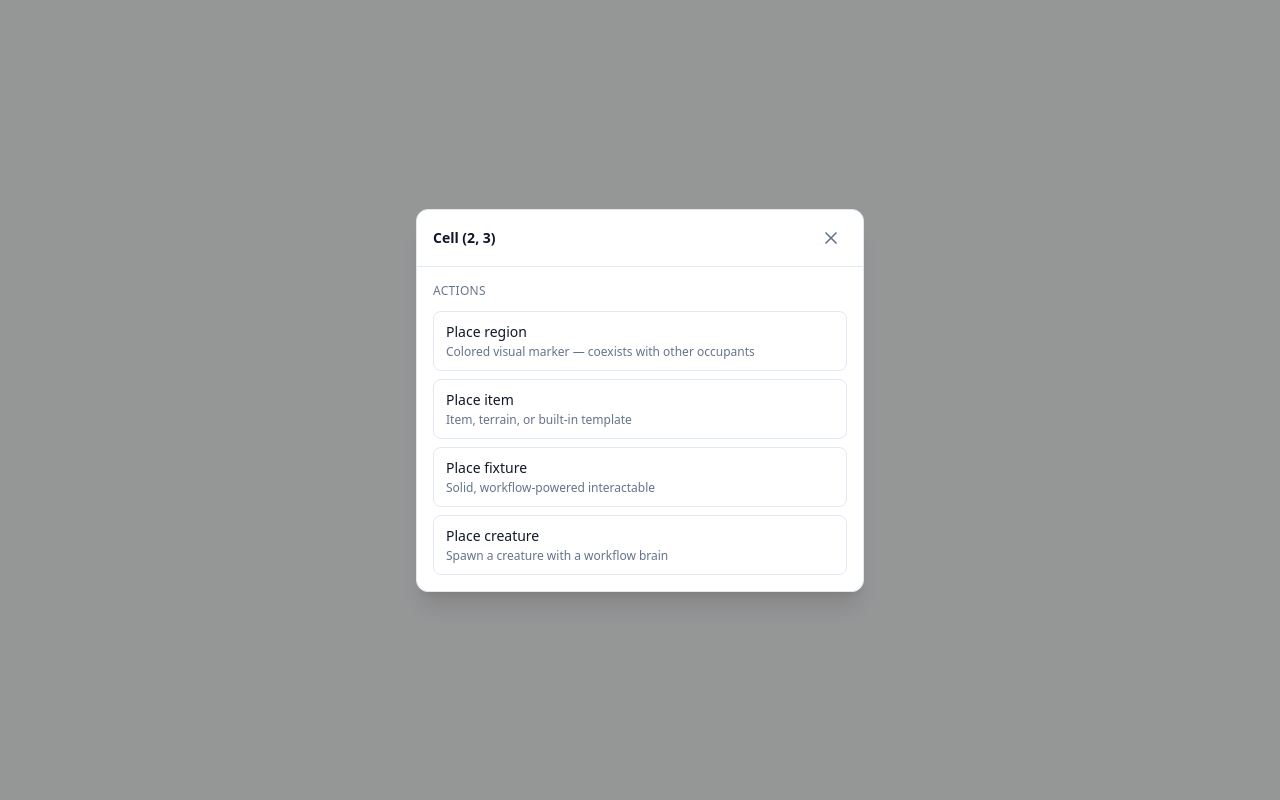
Test: SandboxCellActionModal › place item source menu › lists only user terrain definitions and excludes seeded built-ins
This screenshot has width=1280, height=800.
Click the button "Place item Item, terrain, or built-in template" at (480, 399), box left=433, top=378, right=847, bottom=438
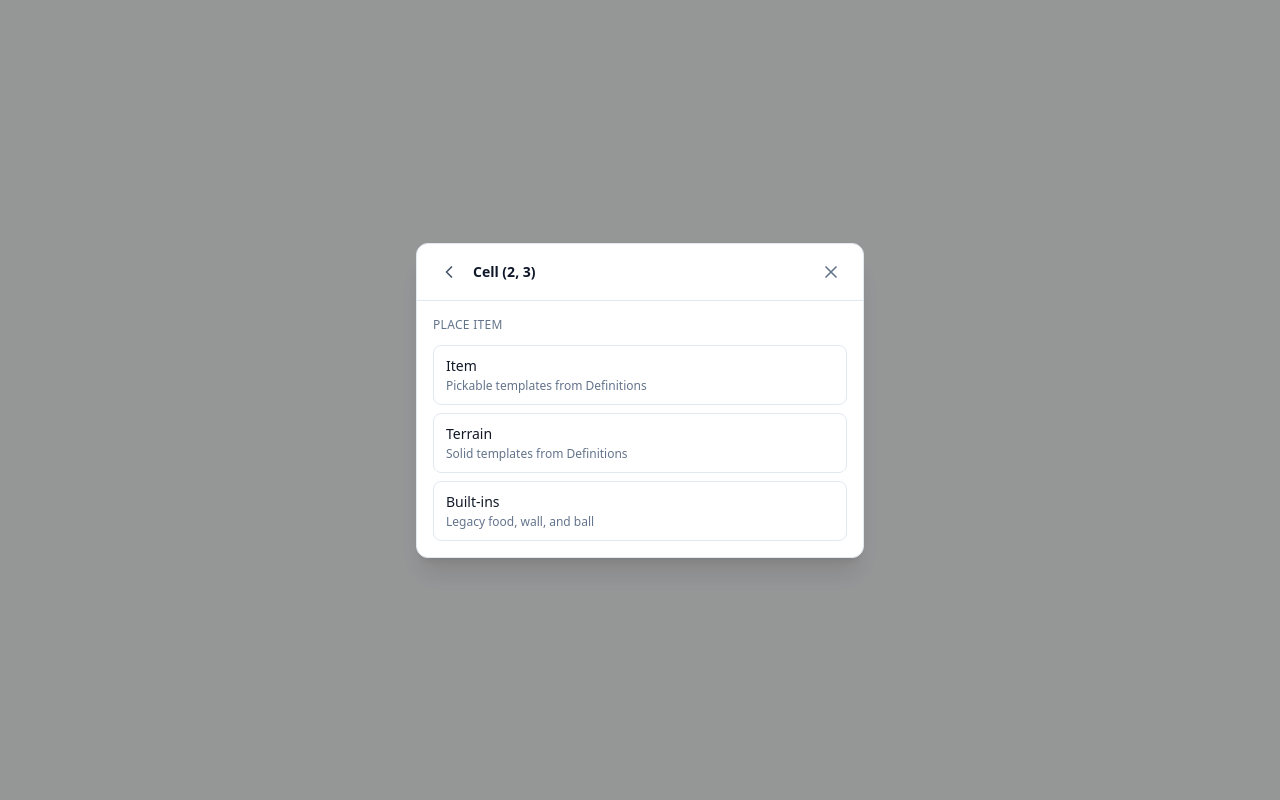
Click the button "Terrain Solid templates from Definitions" at (469, 433), box left=433, top=412, right=847, bottom=472
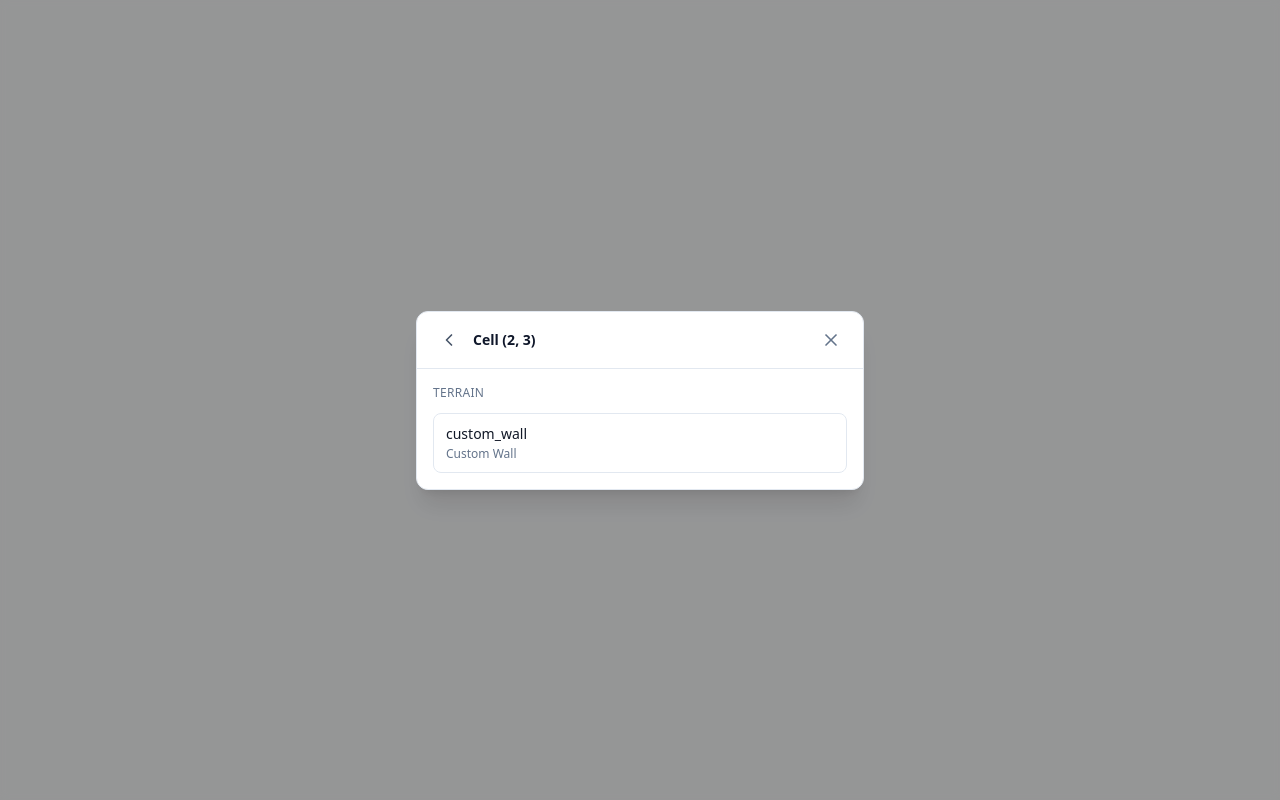
expect the button "custom_wall Custom Wall" is shown: met, box left=433, top=412, right=847, bottom=472
